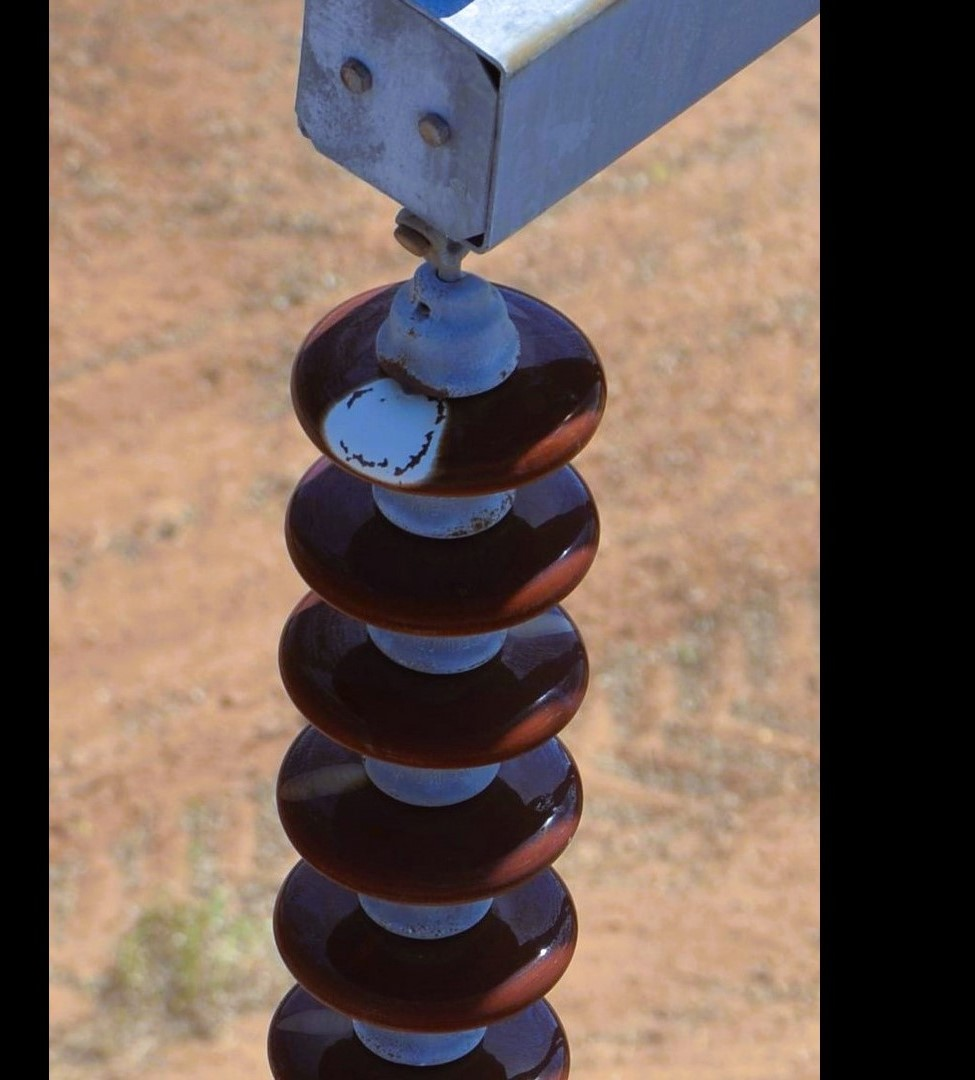Insulator flashover: (282, 268, 611, 505)
